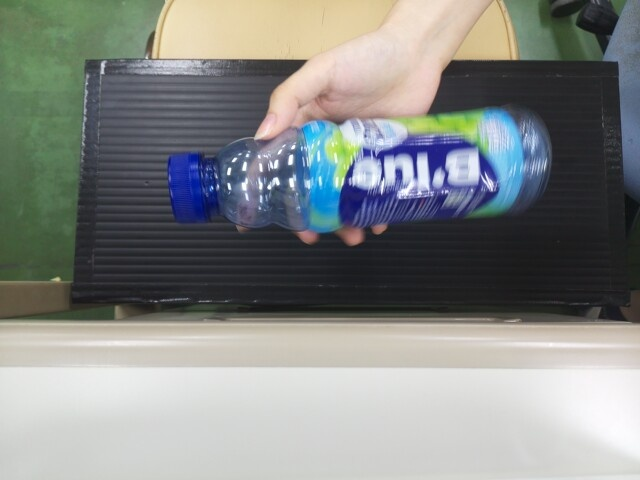plastic_bottle: (166, 117, 557, 225)
